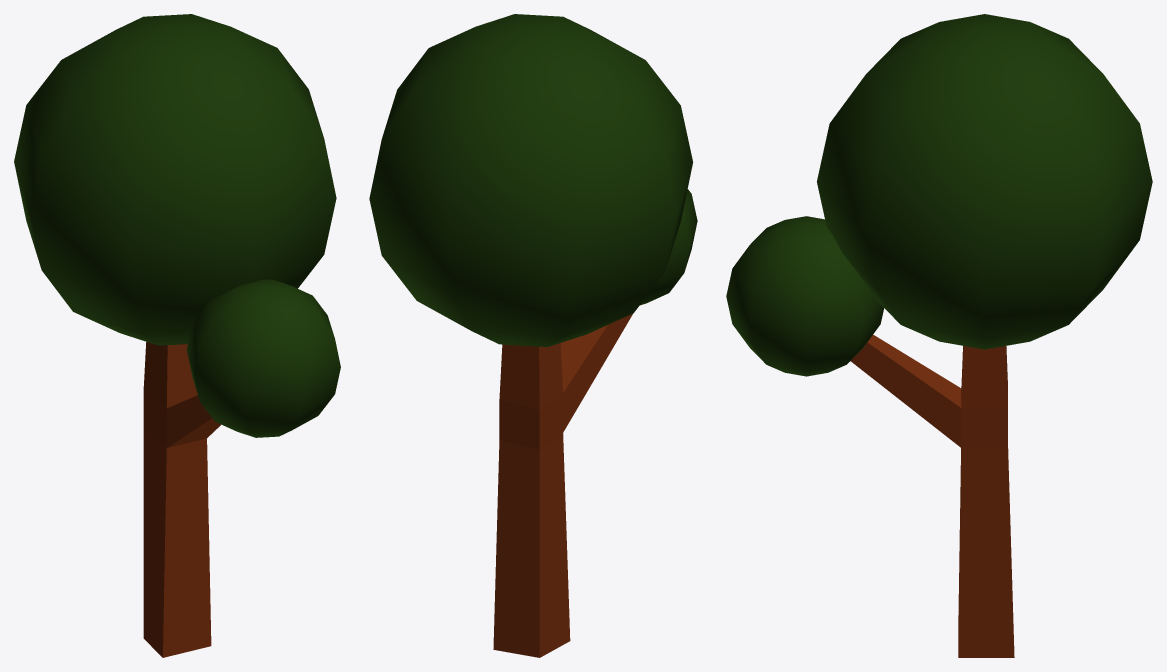
Rendered from Tree2.obj.
3 views of the same model, side by side, from view 1: azimuth 30°, elevation 25°; view 2: azimuth 150°, elevation 25°; view 3: azimuth 270°, elevation 25° (orthographic).
Parts seen in each view (by area): view 1: Tree2; view 2: Tree2; view 3: Tree2.
Part boxes in pixels (x1,y1,x2,y2): Tree2: (14, 14, 340, 657); Tree2: (369, 14, 697, 657); Tree2: (726, 14, 1152, 657).
Bounding box in the file's own units: 2.92 × 5.92 × 3.71.
